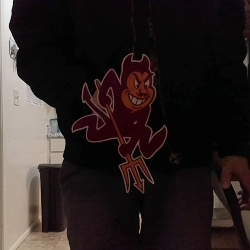sparky: (71, 52, 167, 193)
